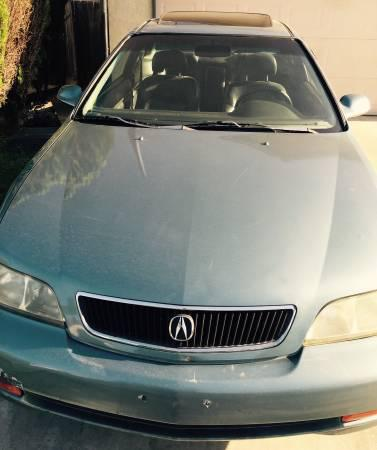acura: (1, 9, 377, 441)
